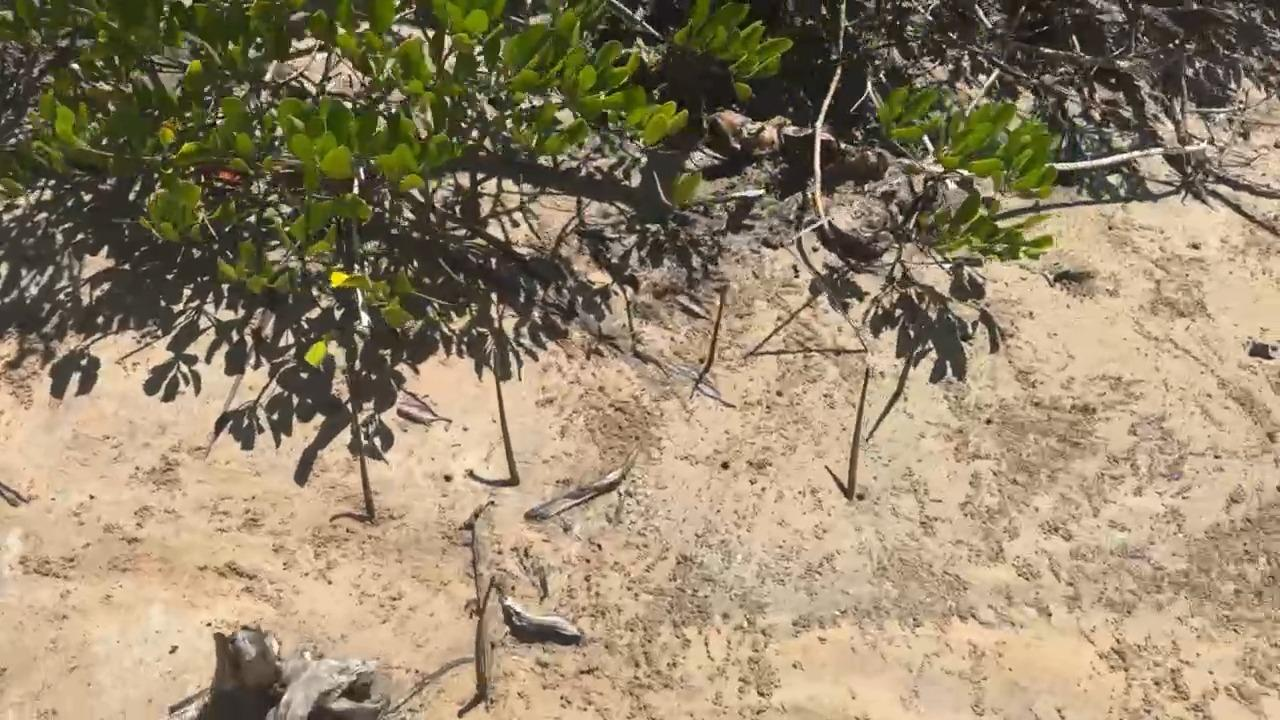Tree: (783, 242, 870, 354), (343, 374, 376, 519), (492, 365, 521, 487), (846, 367, 870, 501), (475, 575, 496, 699), (704, 281, 727, 373), (895, 351, 916, 395)
